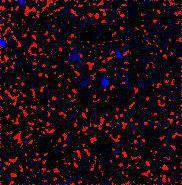star: (0, 28, 29, 58)
